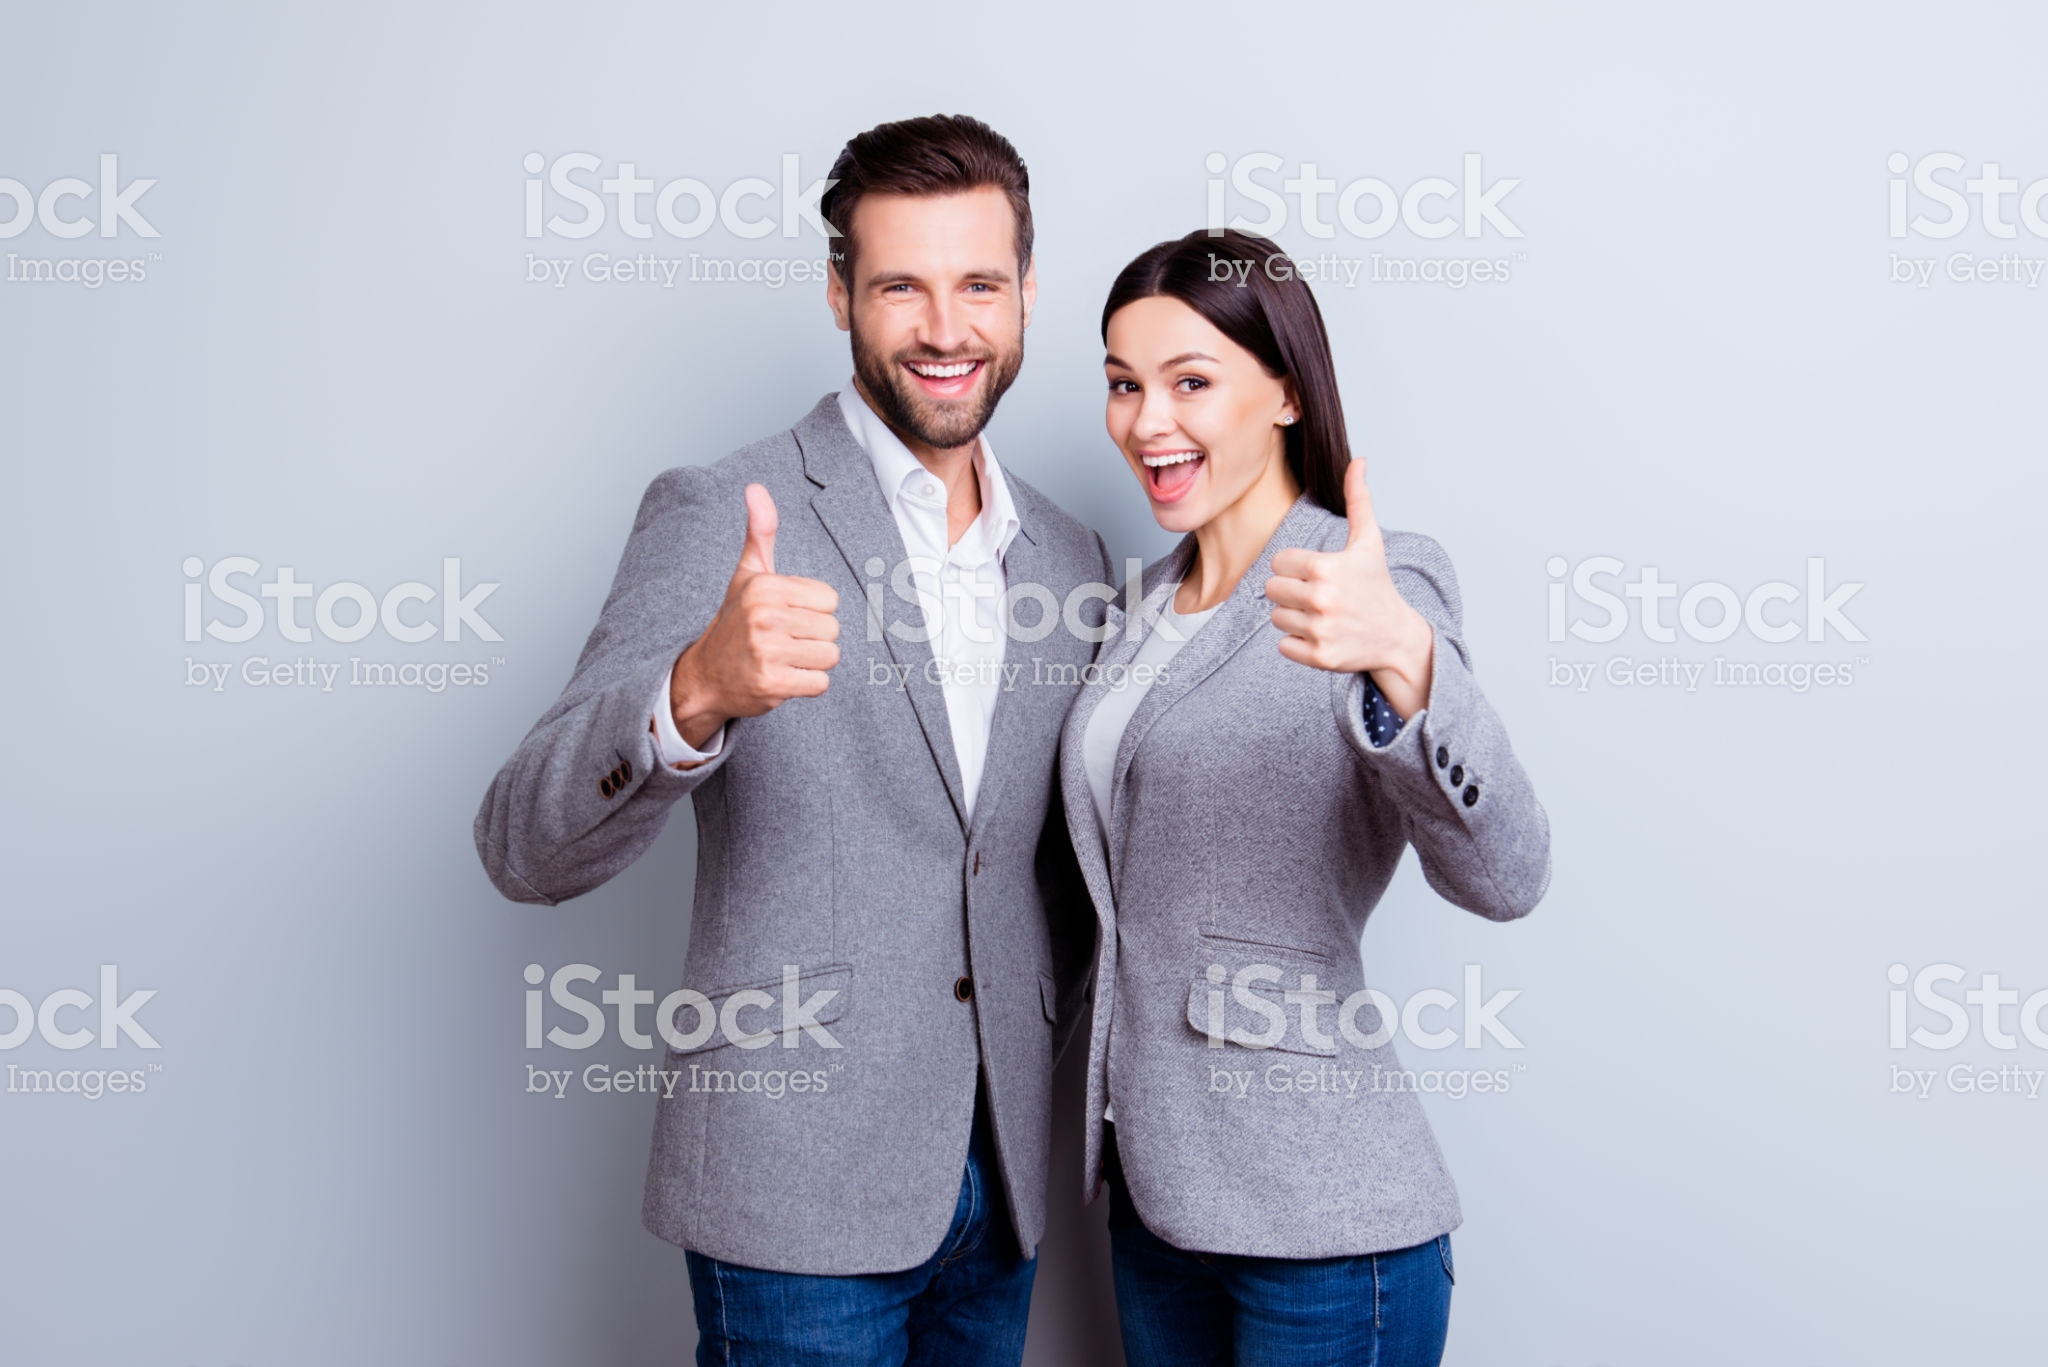thumbsup: (717, 478, 843, 712), (1263, 456, 1388, 676)
